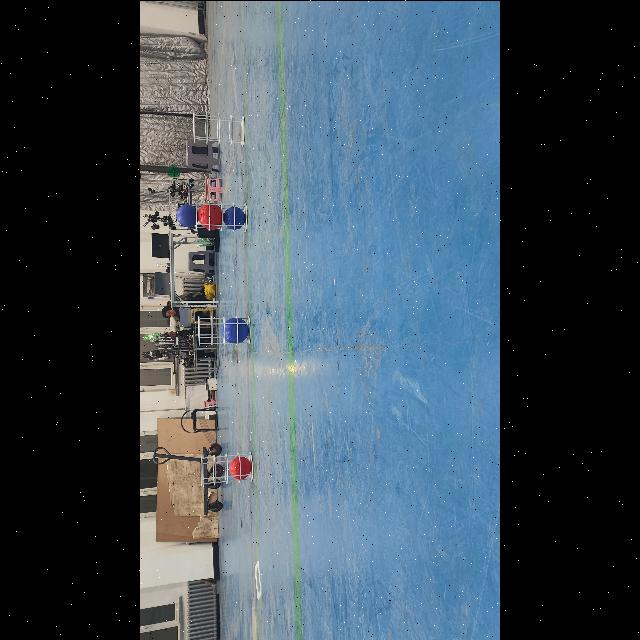B: (224, 314, 248, 342), (223, 206, 245, 228), (178, 202, 198, 226)
R: (197, 202, 223, 230), (229, 454, 251, 480)
S: (198, 442, 254, 488), (192, 109, 246, 148), (198, 309, 252, 347), (196, 195, 248, 232)
